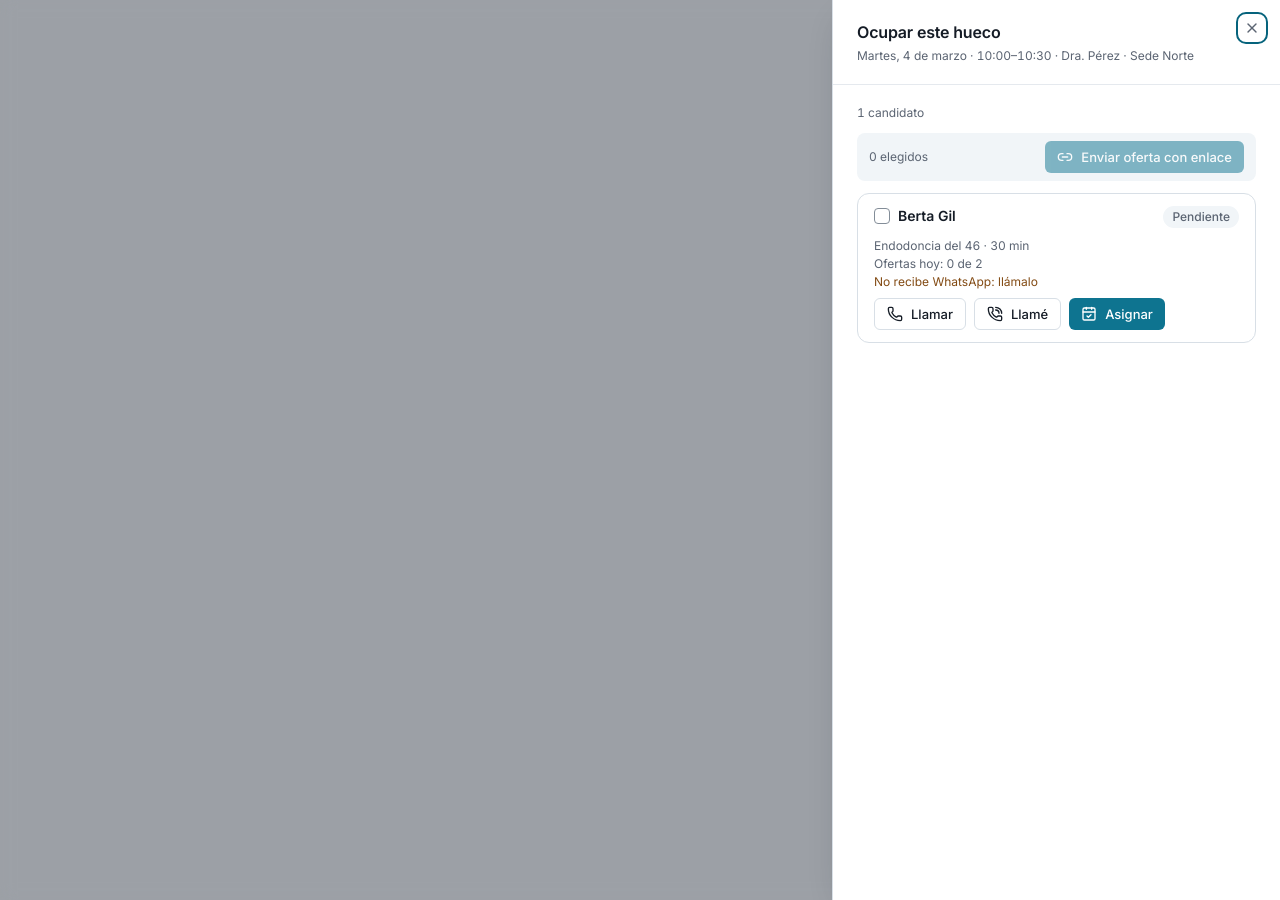
Test: «Ocupar este hueco» (DX-210) › «Llamé» que llega tarde al tope (409): avisa en español y cierra los resultados
This screenshot has width=1280, height=900.
Click the button with aria-label "Anotar la llamada a Berta Gil": [1018, 314] box [974,298,1061,330]
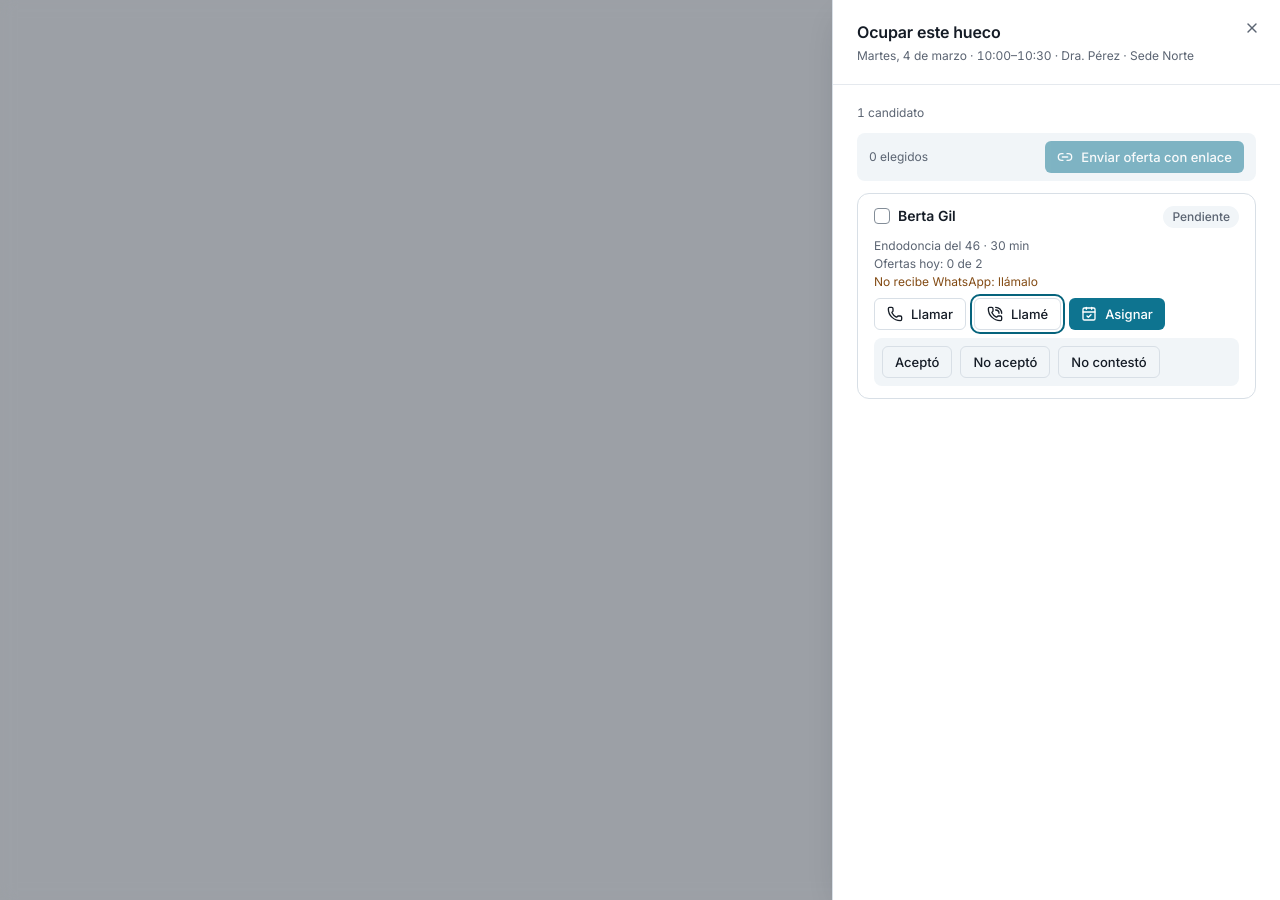
Click the button "No contestó": [1109, 362] box [1058,346,1160,378]
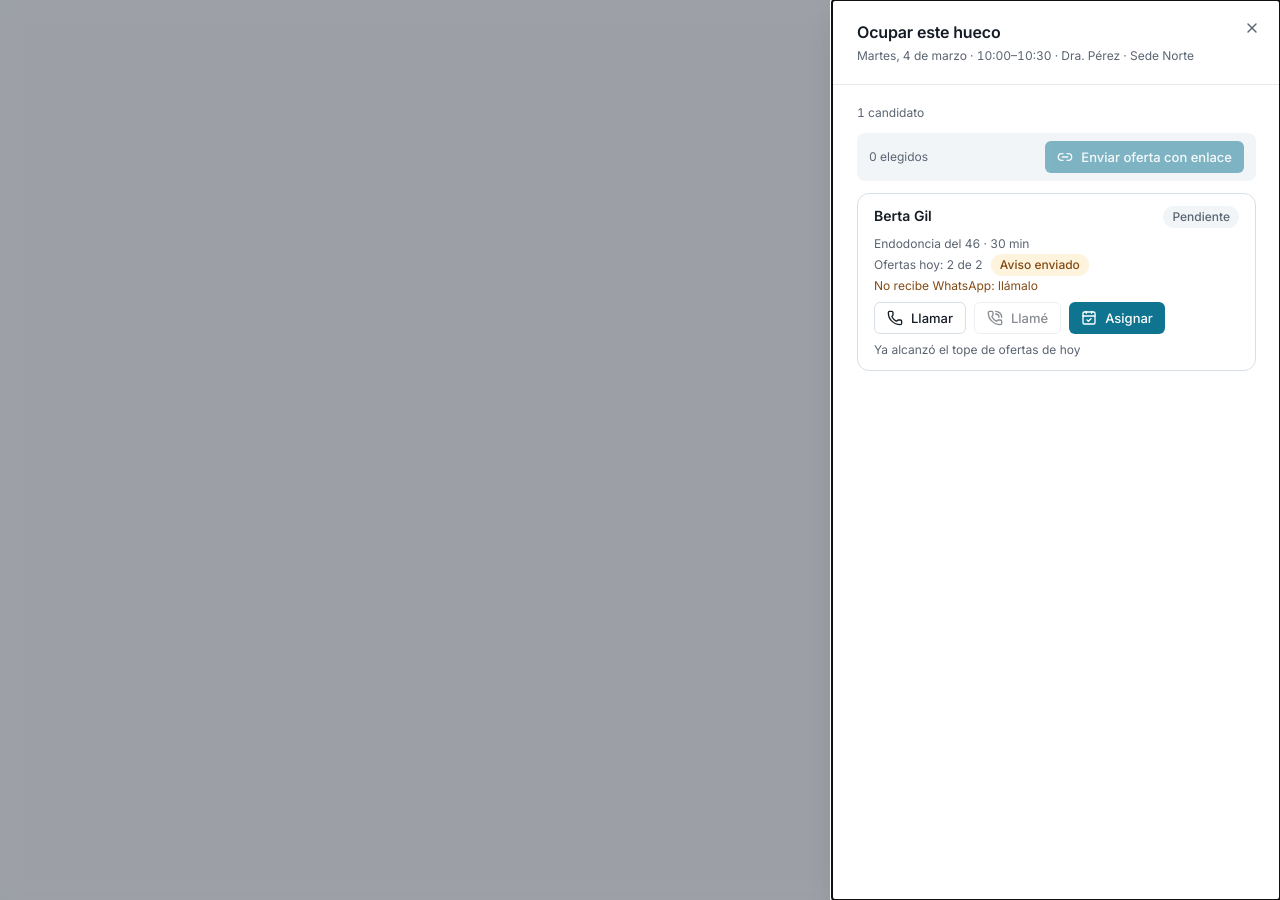
Now the text "Ya alcanzó el tope de ofertas de hoy" is shown, box [874,342,1080,357]
